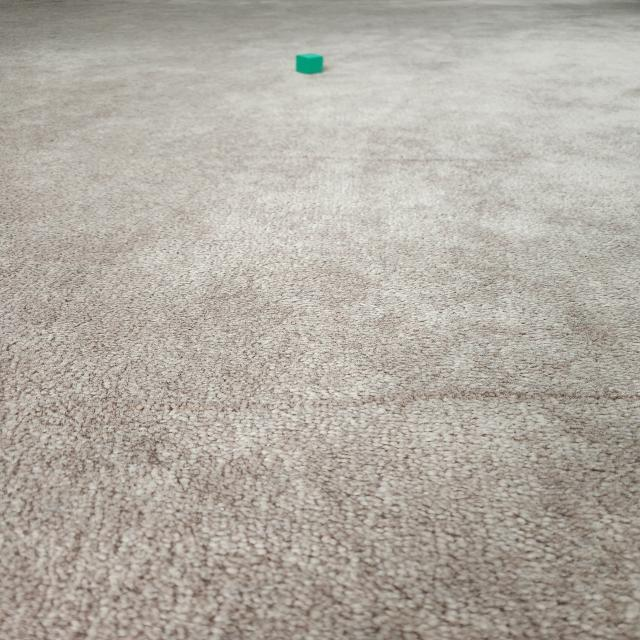green cube: (296, 52, 324, 74)
